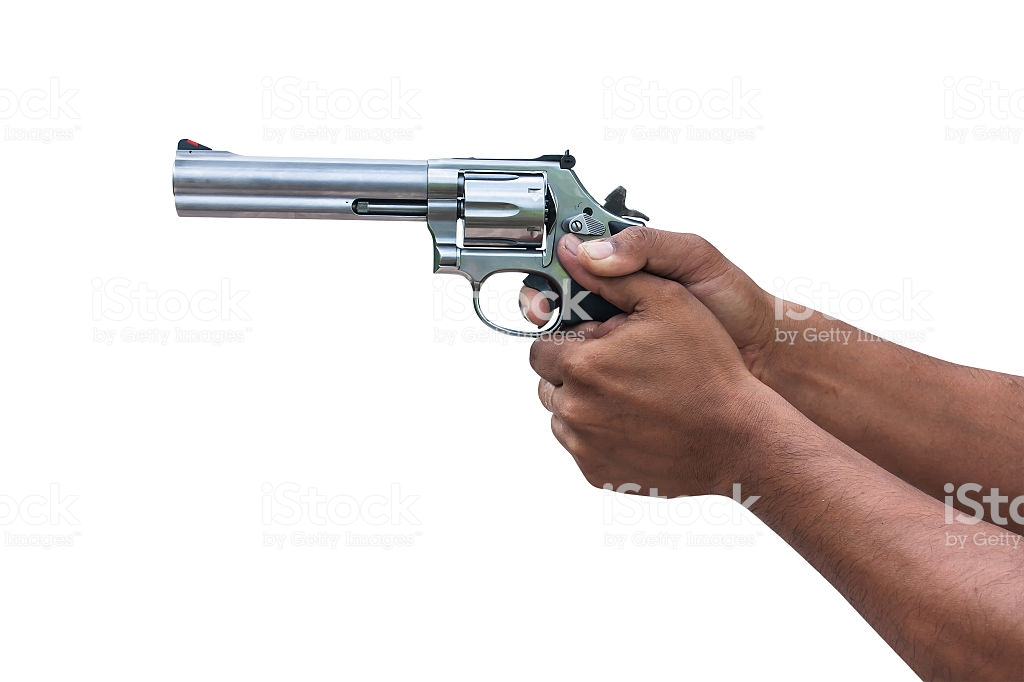Revolver: (139, 106, 684, 364)
